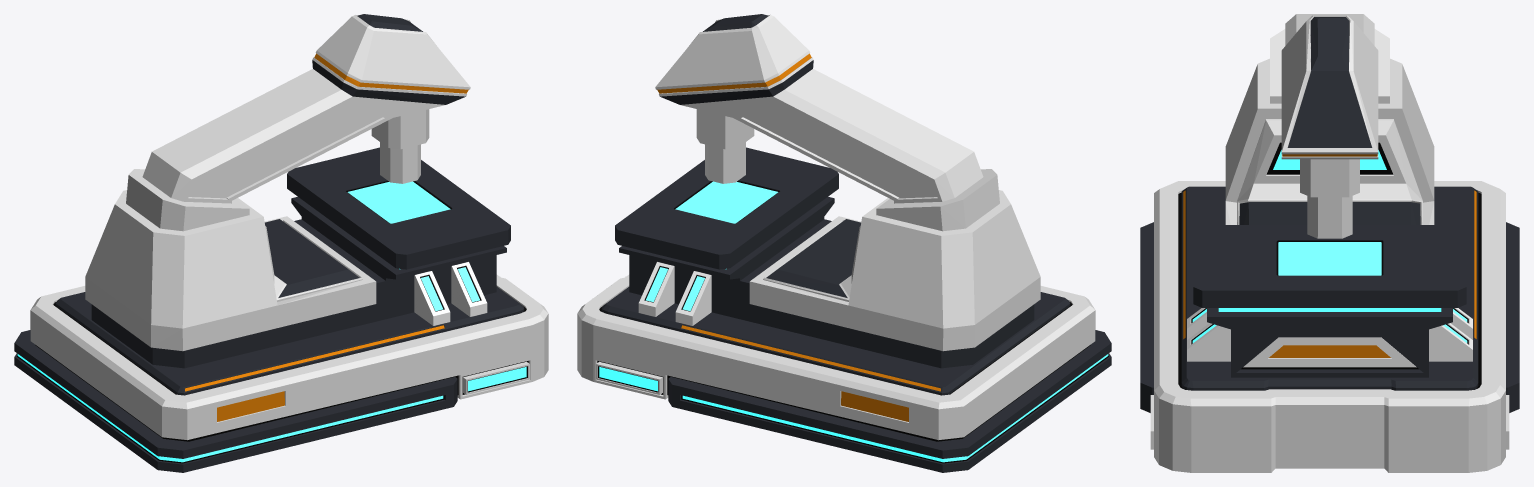
The model's file is SM_Microscope_Advanced.fbx.
The picture shows the model from 3 angles, left to right: view 1: azimuth 30°, elevation 25°; view 2: azimuth 150°, elevation 25°; view 3: azimuth 270°, elevation 25°; orthographic projection. The views are drawn at different scales.
Visible parts, largest first — view 1: SM_Microscope_Advanced; view 2: SM_Microscope_Advanced; view 3: SM_Microscope_Advanced.
Boxes of the visible parts, x1=… form: SM_Microscope_Advanced: x1=14, y1=14, x2=548, y2=472; SM_Microscope_Advanced: x1=577, y1=14, x2=1111, y2=472; SM_Microscope_Advanced: x1=1140, y1=14, x2=1519, y2=472.
Bounding box in the file's own units: 40.26 × 31.92 × 28.28.
